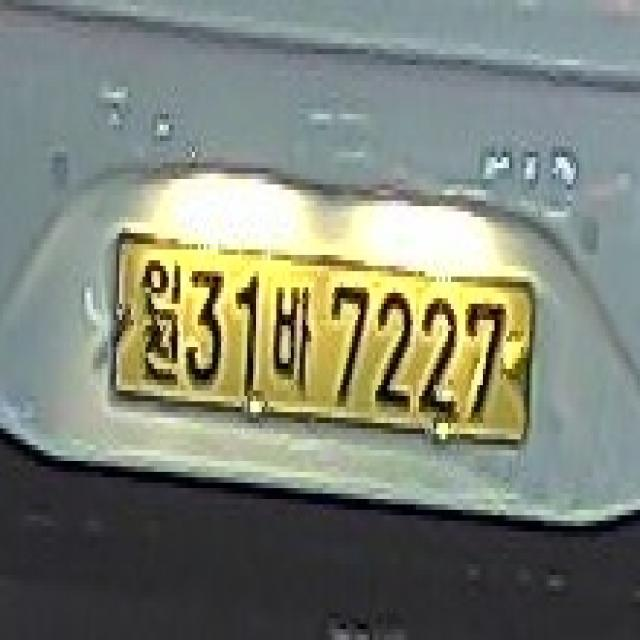plat: (110, 228, 535, 446)
